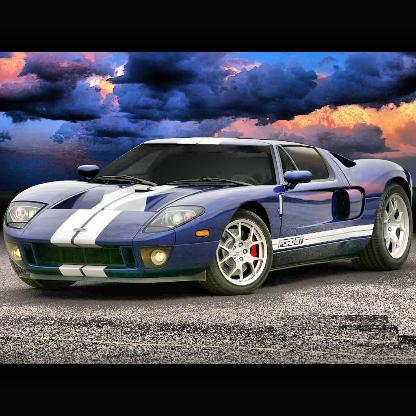Ford GT Coupe 2006: (5, 138, 411, 296)
